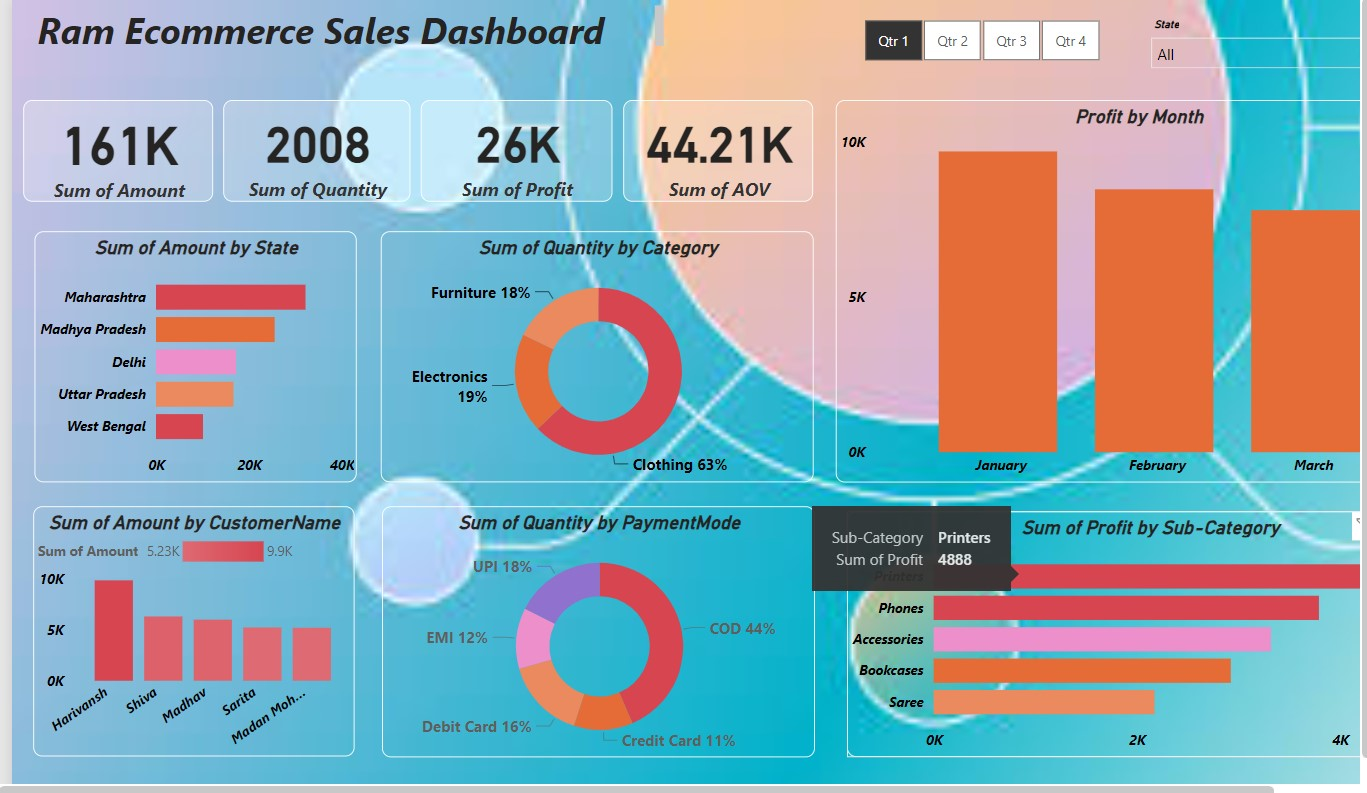

The dashboard page shown, as its layout file describes it:
{"tool":"powerbi","page":{"name":"Page 1","canvas":[1280,720],"ordinal":0},"visuals":[{"type":"textbox","box":[9.3,0,575.6,48.8],"z":0},{"type":"columnChart","title":"Profit by Month","fields":{"Category":["Orders.Order Date.Variation.Date Hierarchy.Month"],"Y":["Details.Profit"]},"box":[732.8,89.2,537.9,340.3],"z":1000},{"type":"barChart","fields":{"Y":["Details.Profit"],"Category":["Details.Sub-Category"]},"box":[741.9,454.7,538.4,218.6],"z":2000},{"type":"donutChart","fields":{"Category":["Details.Category"],"Y":["Details.Quantity"]},"box":[327.9,205.8,384.9,223.3],"z":3000},{"type":"donutChart","fields":{"Y":["Details.Quantity"],"Series":["Details.PaymentMode"]},"box":[329.1,450,384.9,223.3],"z":4000},{"type":"card","fields":{"Values":["Details.Amount"]},"box":[9.6,89.2,168.8,90.6],"z":5000},{"type":"card","fields":{"Values":["Details.Quantity"]},"box":[188,89.2,166,90.6],"z":6000},{"type":"card","fields":{"Values":["Details.Profit"]},"box":[363.6,89.2,170.2,90.6],"z":7000},{"type":"card","fields":{"Values":["Details.Avg_order_value"]},"box":[543.4,89.2,168.8,90.6],"z":8000},{"type":"barChart","fields":{"Category":["Orders.State"],"Y":["Details.Amount"]},"box":[19.8,205.8,286,223.3],"z":9000},{"type":"columnChart","fields":{"Category":["Orders.CustomerName"],"Y":["Details.Amount"]},"box":[19.2,450.1,285.4,222.3],"z":10000},{"type":"slicer","fields":{"Values":["Orders.Order Date.Variation.Date Hierarchy.Quarter"]},"box":[732.8,11,258,49.4],"z":11000},{"type":"slicer","fields":{"Values":["Orders.State"]},"box":[1001.7,11,258,49.4],"z":12000}]}

Visuals, with their boxes on the page's 1280x720 design canvas (x1, y1, x2, y2). These are canvas units, not pixel positions in the 1367x793 screenshot, which may show the page scaled, cropped or inside an application window:
textbox: [left=9, top=0, right=585, bottom=49]
"Profit by Month" columnChart: [left=733, top=89, right=1271, bottom=430]
barChart - Details.Profit x Details.Sub-Category: [left=742, top=455, right=1280, bottom=673]
donutChart - Details.Category x Details.Quantity: [left=328, top=206, right=713, bottom=429]
donutChart - Details.Quantity x Details.PaymentMode: [left=329, top=450, right=714, bottom=673]
card - Details.Amount: [left=10, top=89, right=178, bottom=180]
card - Details.Quantity: [left=188, top=89, right=354, bottom=180]
card - Details.Profit: [left=364, top=89, right=534, bottom=180]
card - Details.Avg_order_value: [left=543, top=89, right=712, bottom=180]
barChart - Orders.State x Details.Amount: [left=20, top=206, right=306, bottom=429]
columnChart - Orders.CustomerName x Details.Amount: [left=19, top=450, right=305, bottom=672]
slicer - Orders.Order Date.Variation.Date Hierarchy.Quarter: [left=733, top=11, right=991, bottom=60]
slicer - Orders.State: [left=1002, top=11, right=1260, bottom=60]
